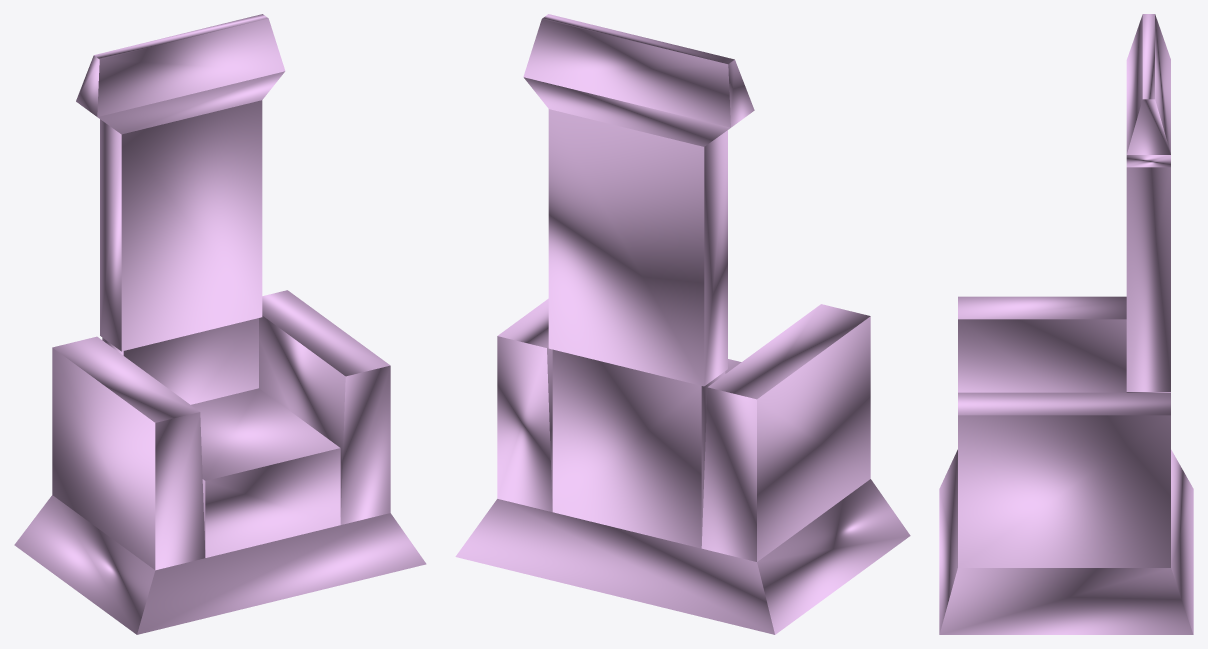
File: throne_col.fbx
3 views of the same model, side by side, from view 1: azimuth 30°, elevation 25°; view 2: azimuth 150°, elevation 25°; view 3: azimuth 270°, elevation 25° (orthographic). The views are drawn at different scales.
Parts seen in each view (by area): view 1: throne_physics.001; view 2: throne_physics.001; view 3: throne_physics.001.
Boxes of the visible parts, <box> form: throne_physics.001: <box>14,14,426,634</box>; throne_physics.001: <box>455,14,910,634</box>; throne_physics.001: <box>939,14,1193,634</box>.
Bounding box in the file's own units: 62.42 × 101 × 45.8.
